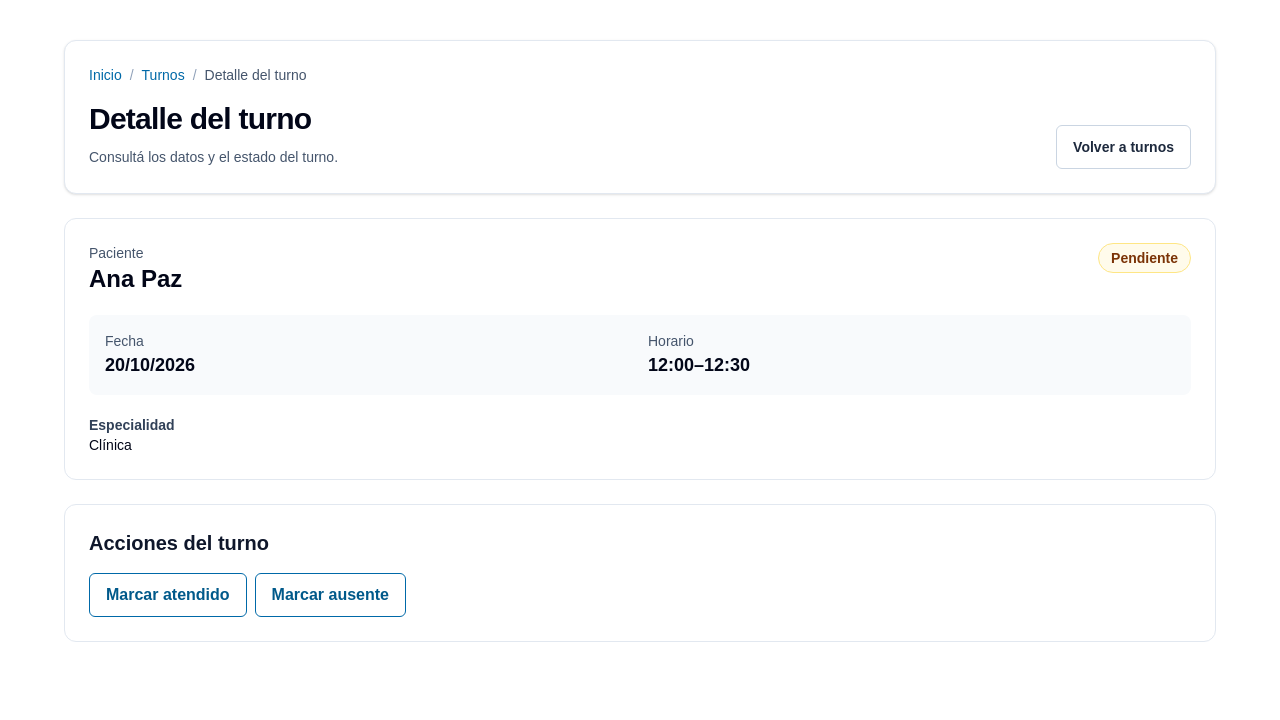
Test: appointment detail flow › updates Professional status and CAS from the returned result
This screenshot has width=1280, height=720.
Click the button "Marcar atendido": (168, 595) [89, 573, 247, 617]
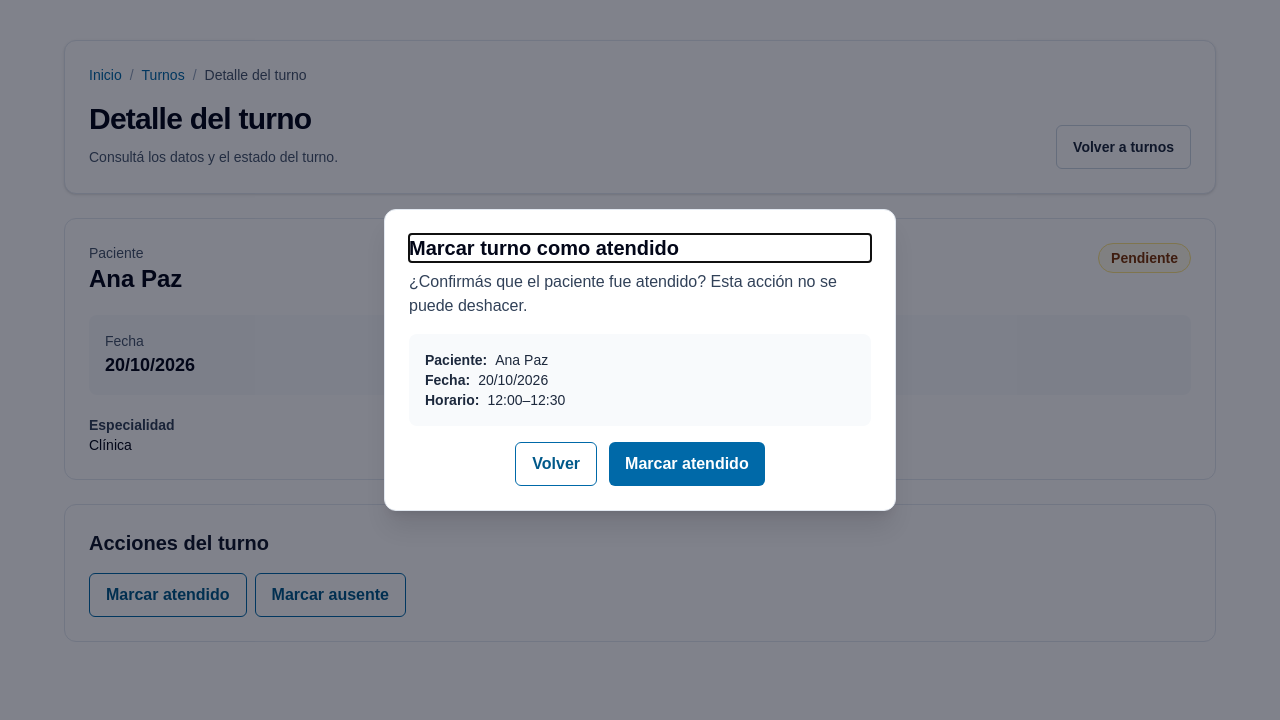
Click the button "Marcar atendido": (687, 464) [609, 442, 765, 486]
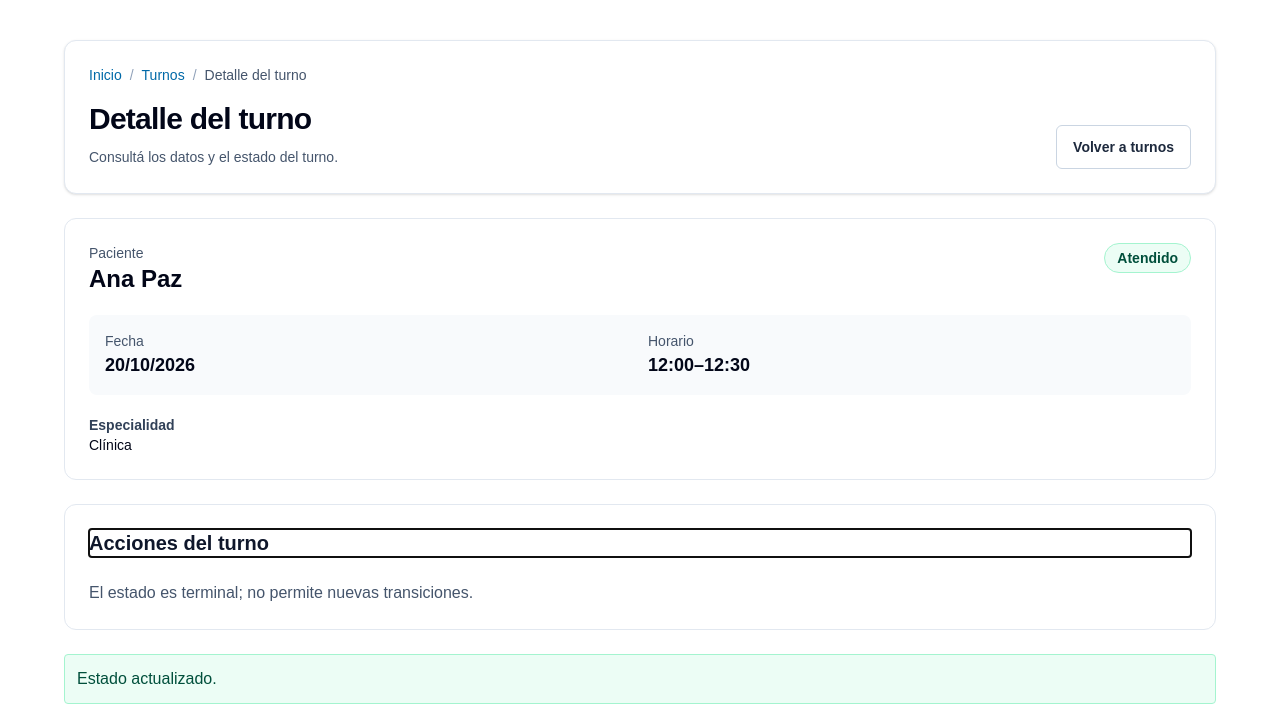
Result: the text "El estado es terminal; no permite nuevas transiciones." is shown at [89, 584, 473, 601]
